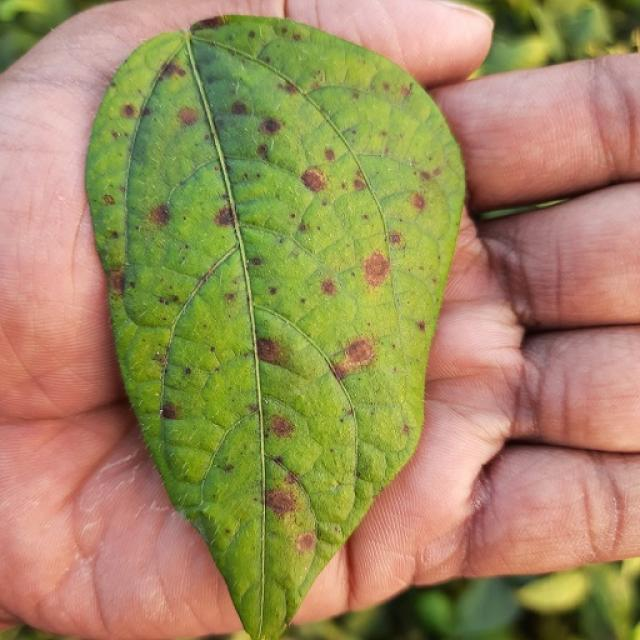Anthracnose: (356, 242, 396, 293), (330, 336, 378, 377), (264, 486, 298, 515), (256, 337, 283, 365), (300, 167, 327, 192), (268, 415, 294, 438), (191, 15, 227, 31), (148, 204, 170, 227), (214, 205, 236, 227), (295, 531, 316, 553), (162, 62, 186, 80), (178, 106, 199, 126), (329, 362, 349, 381), (261, 117, 282, 135), (108, 271, 125, 293), (320, 279, 337, 296), (161, 403, 178, 420), (410, 193, 426, 211), (231, 100, 249, 116), (121, 103, 138, 119), (388, 231, 403, 246), (400, 83, 413, 99), (101, 193, 115, 206), (353, 178, 367, 191), (256, 144, 269, 158), (324, 147, 336, 162), (272, 455, 286, 467), (419, 170, 432, 182), (224, 292, 236, 302), (416, 320, 426, 332), (249, 257, 262, 266), (223, 463, 234, 473), (268, 286, 278, 296), (292, 32, 302, 41), (111, 130, 120, 140), (109, 230, 119, 239), (402, 424, 410, 435), (247, 30, 256, 39), (184, 367, 192, 375), (224, 527, 232, 535), (290, 212, 296, 219)
Blackgram: (88, 16, 464, 639)
